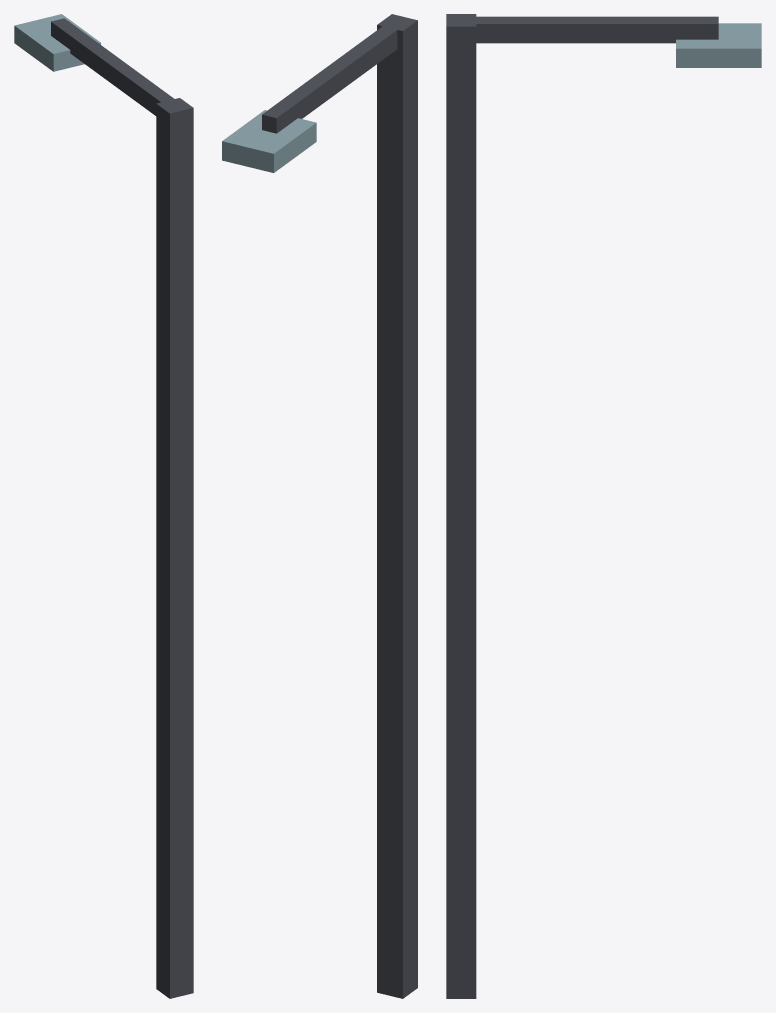
Rendered from street_lamp.glb.
3 views of the same model, side by side, from view 1: azimuth 30°, elevation 25°; view 2: azimuth 150°, elevation 25°; view 3: azimuth 270°, elevation 25° (orthographic). The views are drawn at different scales.
Visible parts, largest first — view 1: placeholder; view 2: placeholder; view 3: placeholder.
Boxes of the visible parts, left/top/right/bottom form: placeholder: left=14, top=14, right=193, bottom=998; placeholder: left=222, top=14, right=417, bottom=998; placeholder: left=446, top=14, right=761, bottom=998.
Bounding box in the file's own units: 0.28 × 5 × 1.47.
